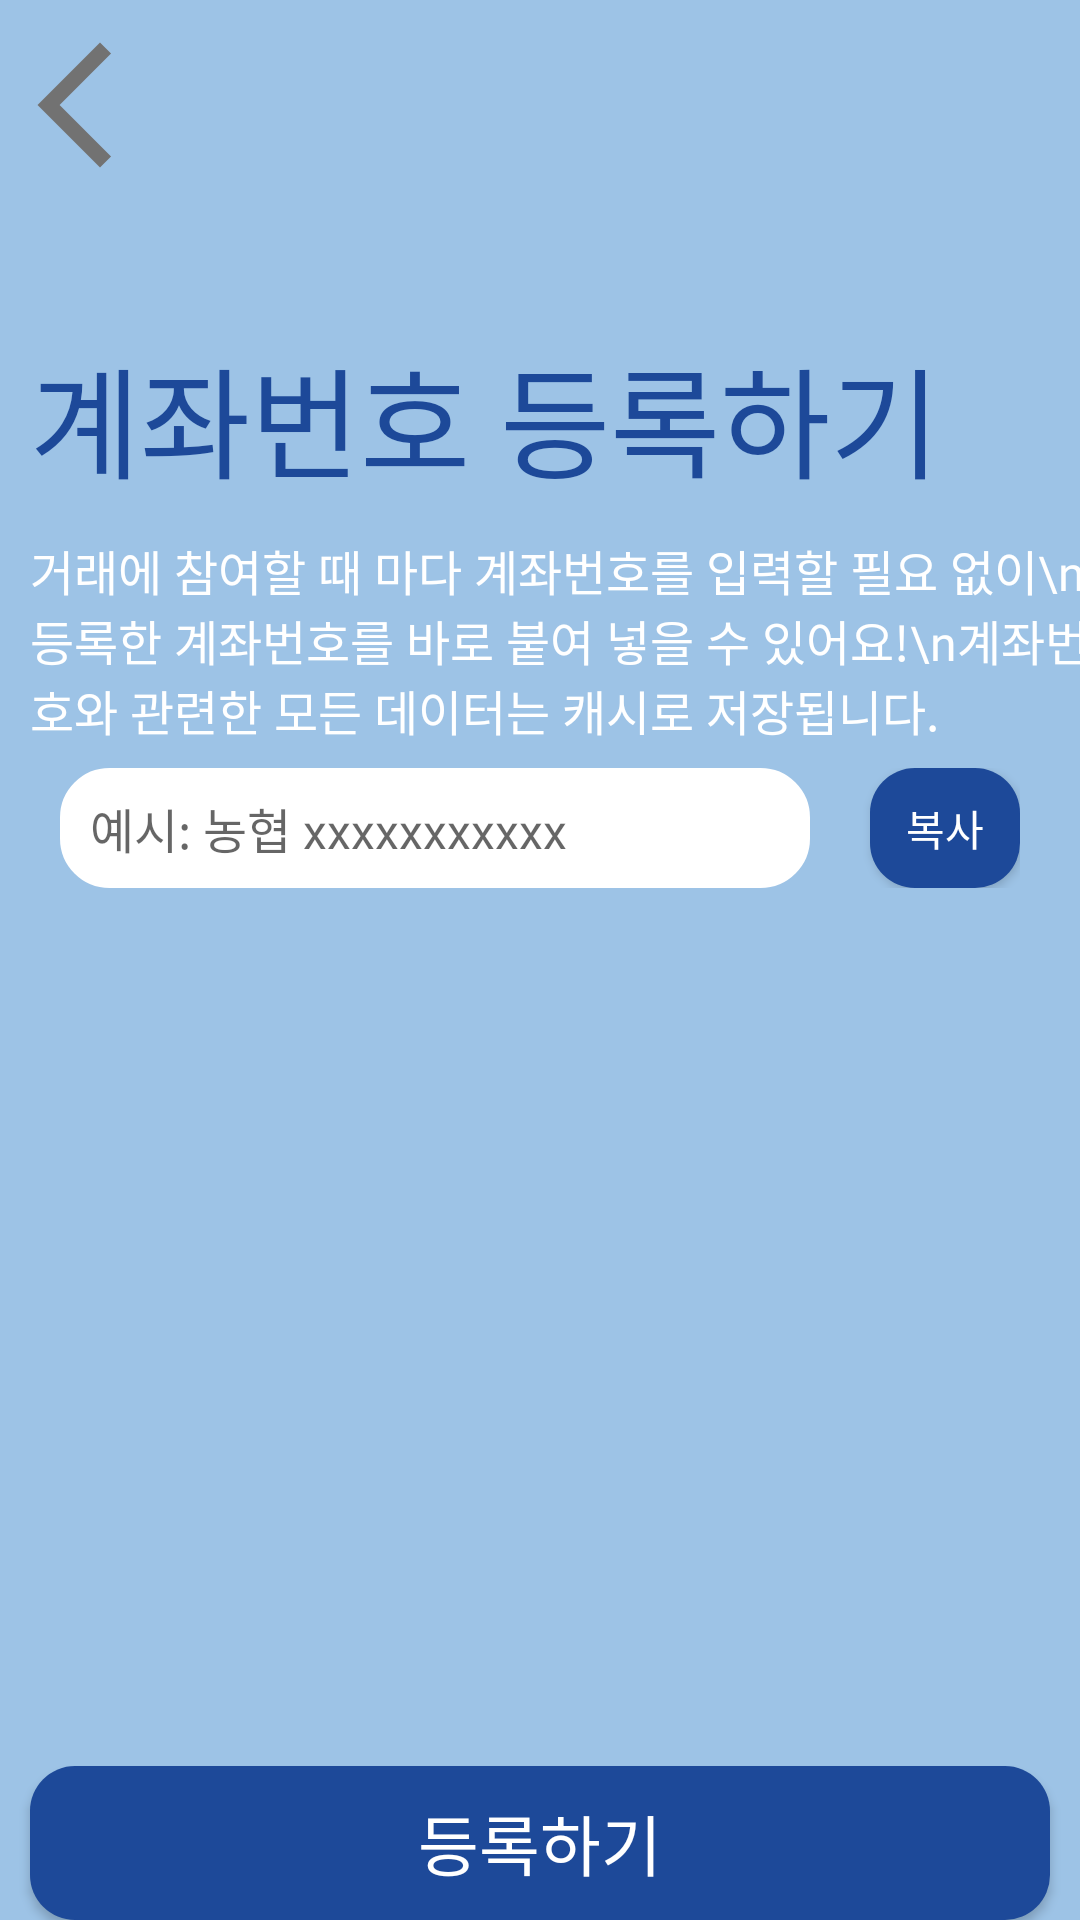

Point at icon controls on the screen. Image size 1080*1920, points as (x,y).
arrow back: (74,105)
